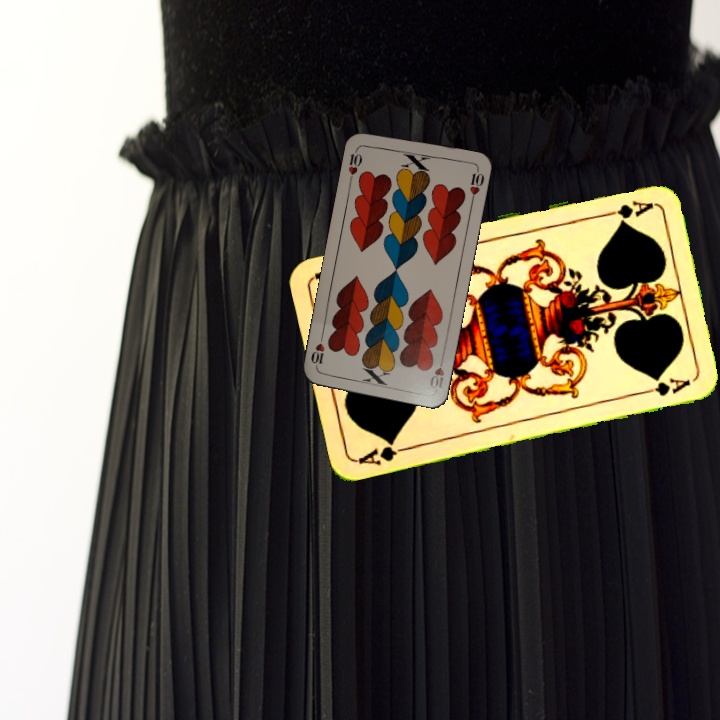GA: (354, 435, 413, 468), (596, 196, 655, 221)
H10: (344, 144, 365, 184), (426, 352, 447, 391)
